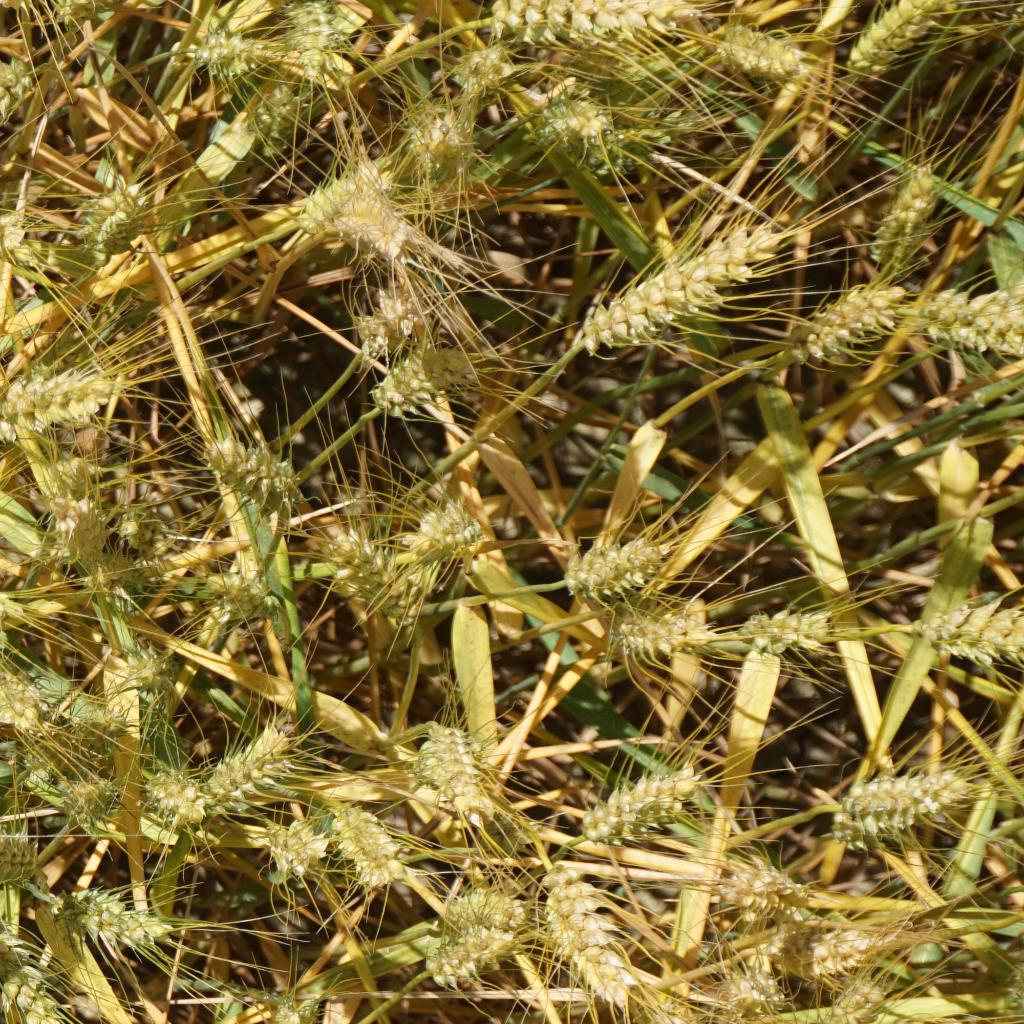0-0: (572, 211, 800, 361), (549, 861, 644, 1012), (832, 760, 981, 852), (554, 102, 694, 188), (575, 758, 709, 847), (325, 521, 420, 630), (859, 164, 947, 278), (191, 421, 299, 512), (513, 0, 691, 55), (907, 281, 1019, 364), (203, 718, 302, 811), (921, 581, 1024, 668), (798, 276, 897, 366), (844, 0, 954, 76), (430, 881, 541, 954), (416, 717, 494, 817), (0, 908, 64, 1024), (564, 539, 680, 601), (331, 185, 418, 265), (729, 854, 817, 933), (206, 561, 294, 640), (734, 598, 837, 665), (613, 599, 714, 664), (376, 342, 459, 421), (351, 281, 428, 366), (69, 891, 168, 956), (329, 801, 404, 886), (414, 490, 495, 568), (243, 72, 320, 152), (16, 371, 100, 444), (522, 78, 612, 142), (262, 804, 332, 885), (75, 177, 152, 248), (107, 640, 200, 698), (406, 99, 473, 179), (718, 953, 795, 1022), (462, 809, 552, 867), (432, 921, 510, 987), (274, 0, 342, 75), (808, 915, 899, 971), (294, 161, 376, 219), (183, 27, 259, 89), (719, 22, 801, 78), (794, 972, 882, 1024), (51, 481, 105, 563), (0, 204, 54, 280), (118, 491, 177, 560), (0, 668, 52, 745), (442, 37, 501, 103), (153, 771, 210, 834), (43, 448, 94, 518), (58, 778, 121, 831), (0, 825, 52, 889), (254, 985, 332, 1024), (876, 1001, 990, 1024), (632, 998, 721, 1024), (0, 45, 19, 140)
